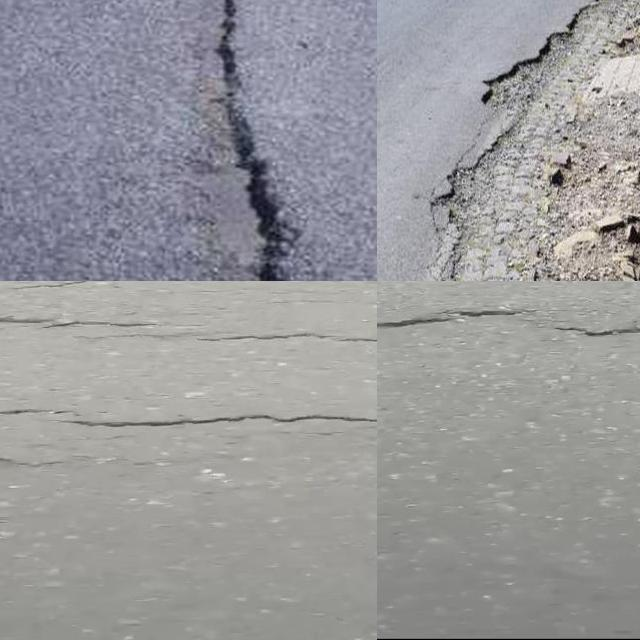Melintang: (0, 303, 377, 355), (0, 394, 377, 441), (377, 298, 640, 358)
Memanjang: (197, 0, 304, 281)
Pinggir: (422, 0, 640, 281)
